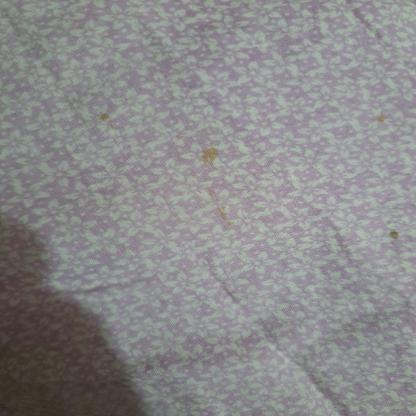spot: (189, 139, 263, 231), (95, 99, 129, 130)
